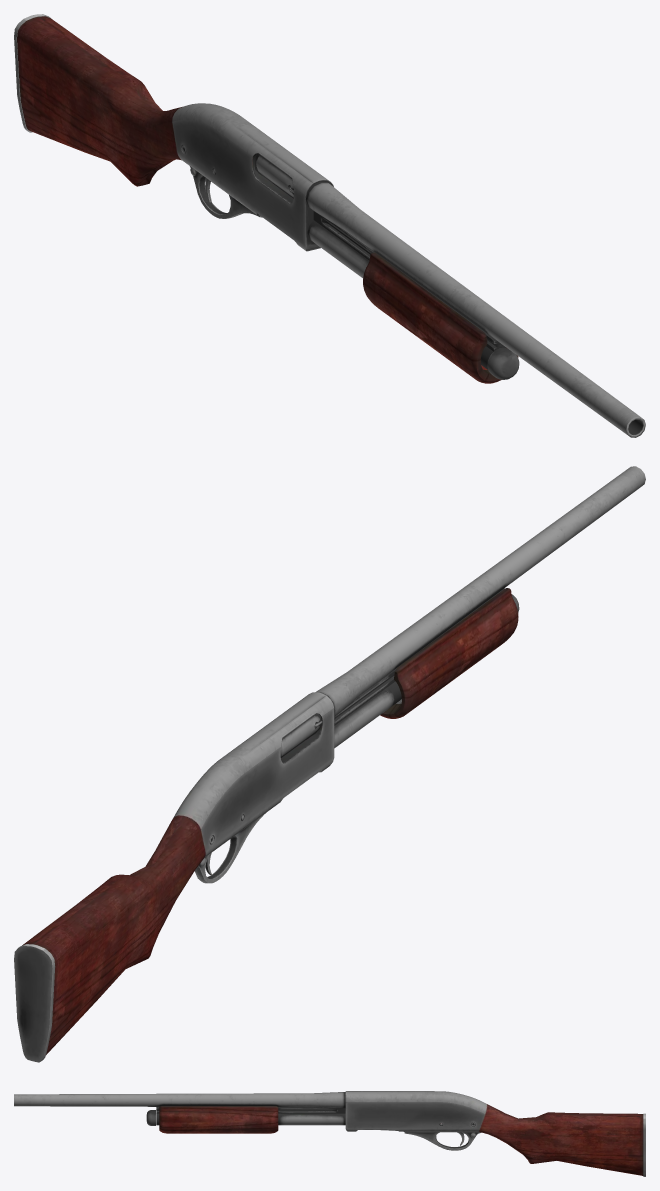
The model's file is staykout.glb.
3 renders of one model, top to bottom at view 1: azimuth 30°, elevation 25°; view 2: azimuth 150°, elevation 25°; view 3: azimuth 270°, elevation 25°, orthographic. The views are drawn at different scales.
Visible parts, largest first — view 1: polySurface14_lambert2_0, polySurface5_lambert2_0, polySurface1_lambert2_0, polySurface6_lambert2_0, polySurface4_lambert2_0, polySurface8_lambert2_0, polySurface7_lambert2_0; view 2: polySurface14_lambert2_0, polySurface5_lambert2_0, polySurface1_lambert2_0, polySurface15_lambert2_0, polySurface6_lambert2_0, polySurface4_lambert2_0; view 3: polySurface14_lambert2_0, polySurface5_lambert2_0, polySurface1_lambert2_0, polySurface6_lambert2_0, polySurface4_lambert2_0, polySurface15_lambert2_0.
Boxes of the visible parts, x1,y1,x2,y2 form: polySurface14_lambert2_0: (17,16,333,251); polySurface5_lambert2_0: (306,181,645,437); polySurface1_lambert2_0: (363,252,518,383); polySurface6_lambert2_0: (307,211,506,369); polySurface4_lambert2_0: (190,166,262,218); polySurface8_lambert2_0: (487,347,519,379); polySurface7_lambert2_0: (256,153,293,198); polySurface14_lambert2_0: (22,692,334,1054); polySurface5_lambert2_0: (315,466,645,716); polySurface1_lambert2_0: (380,588,518,718); polySurface15_lambert2_0: (14,944,55,1062); polySurface6_lambert2_0: (334,588,504,748); polySurface4_lambert2_0: (194,813,265,883); polySurface14_lambert2_0: (345,1091,643,1175); polySurface5_lambert2_0: (14,1092,345,1108); polySurface1_lambert2_0: (159,1106,278,1133); polySurface6_lambert2_0: (156,1107,345,1125); polySurface4_lambert2_0: (404,1131,481,1150); polySurface15_lambert2_0: (643,1113,645,1176).
Size of the model in its own units: 0.0171 by 0.0569 by 0.3912.
Materials: 1 (1 with a texture image).
